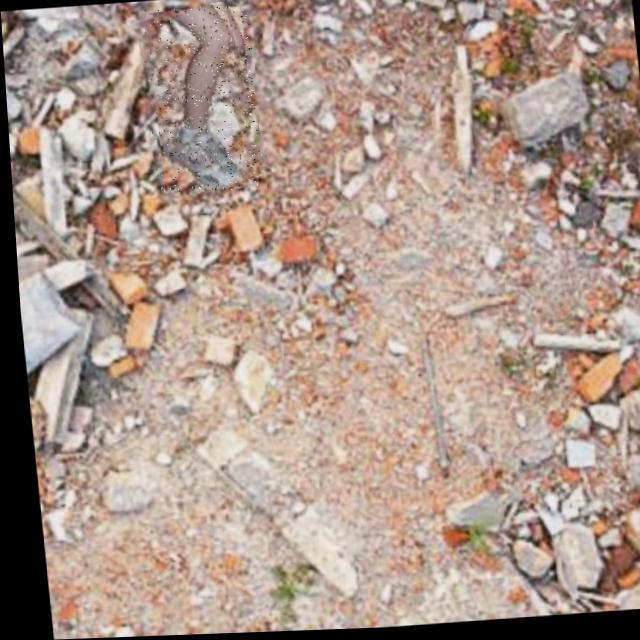Person in Rubble: (139, 4, 263, 196)
